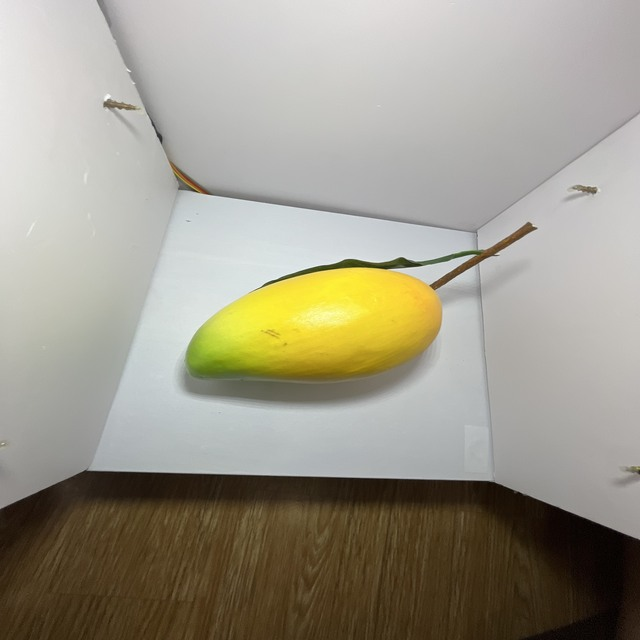Xoai: (179, 262, 447, 391)
